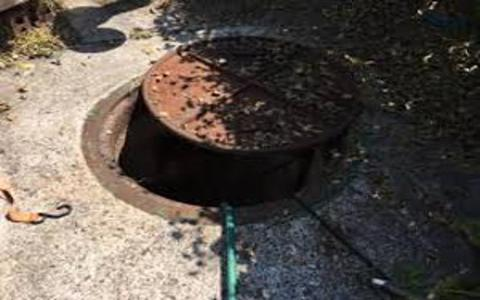open manhole: (89, 55, 303, 241)
